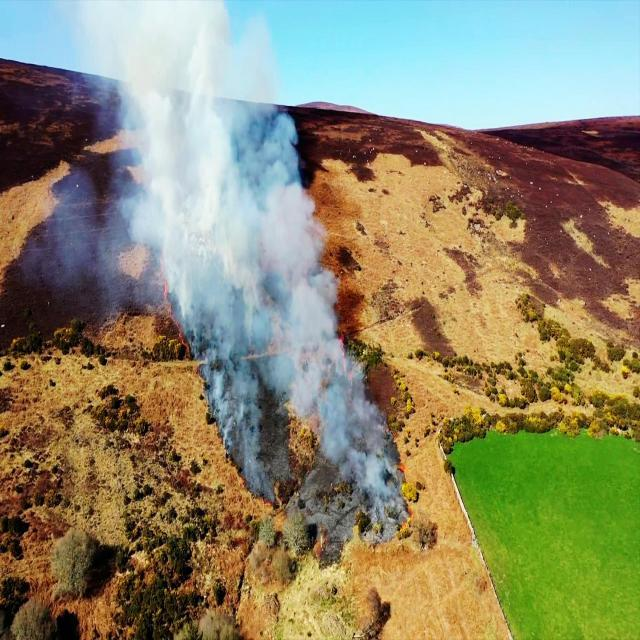Smoke: (204, 2, 272, 360), (128, 1, 224, 238)
